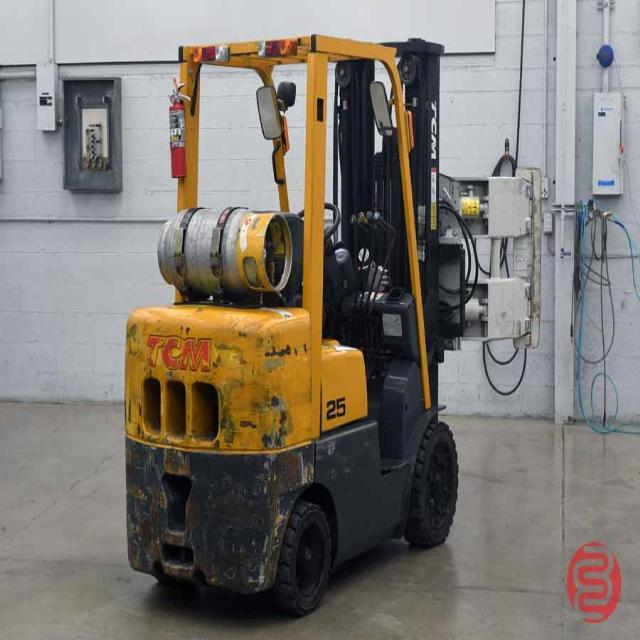forklift: (106, 17, 475, 626)
